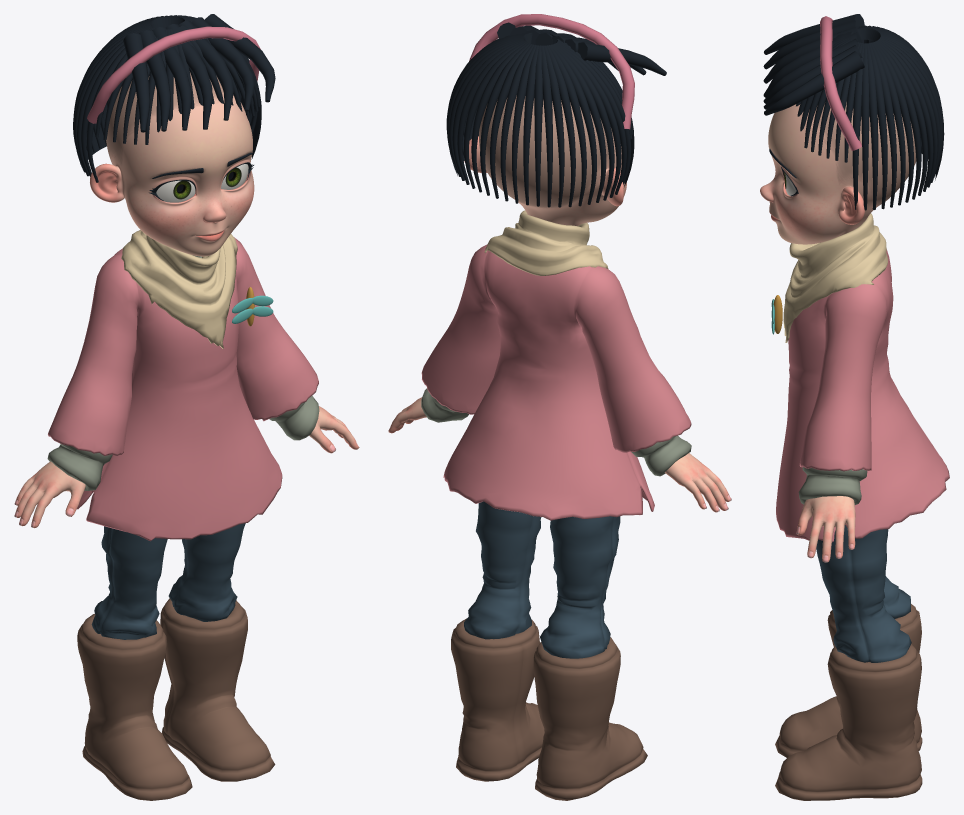
Rendered from actor-friend.glb.
3 renders of one model, left to right at view 1: azimuth 30°, elevation 25°; view 2: azimuth 150°, elevation 25°; view 3: azimuth 270°, elevation 25°, orthographic.
Visible parts, largest first — view 1: GEO-spring_jacket.001, GEO-spring_head.001, GEO_spring_boots.l.001, GEO_spring_boots.r.001, GEO_spring_pants.001, GEO_spring_scarf.001, GEO_spring_arms.001, GEO-spring_pullover.001, rose headband.001, side fringe.007, side fringe.012, side fringe.013 (+9 smaller); view 2: GEO-spring_jacket.001, GEO_spring_pants.001, GEO_spring_boots.r.001, GEO_spring_boots.l.001, GEO-spring_head.001, GEO_spring_scarf.001, rose headband.001, GEO_spring_arms.001, GEO-spring_pullover.001, bob strand.089, bob strand.088, bob strand.090 (+19 smaller); view 3: GEO-spring_jacket.001, GEO_spring_boots.l.001, GEO-spring_head.001, GEO_spring_pants.001, GEO_spring_scarf.001, GEO_spring_boots.r.001, GEO_spring_arms.001, GEO-spring_pullover.001, rose headband.001, side fringe.013, bob strand.073, bob strand.074 (+20 smaller).
Part boxes in pixels (bbox=[...]): GEO-spring_jacket.001: bbox=[48, 237, 318, 541]; GEO-spring_head.001: bbox=[90, 72, 254, 256]; GEO_spring_boots.l.001: bbox=[160, 598, 275, 781]; GEO_spring_boots.r.001: bbox=[77, 613, 192, 800]; GEO_spring_pants.001: bbox=[91, 523, 245, 639]; GEO_spring_scarf.001: bbox=[121, 230, 237, 348]; GEO_spring_arms.001: bbox=[14, 406, 359, 528]; GEO-spring_pullover.001: bbox=[47, 255, 319, 490]; rose headband.001: bbox=[87, 26, 260, 123]; side fringe.007: bbox=[123, 33, 150, 132]; side fringe.012: bbox=[191, 17, 254, 111]; side fringe.013: bbox=[205, 14, 275, 102]; GEO-spring_jacket.001: bbox=[421, 244, 691, 520]; GEO_spring_pants.001: bbox=[464, 501, 620, 658]; GEO_spring_boots.r.001: bbox=[533, 637, 647, 800]; GEO_spring_boots.l.001: bbox=[451, 618, 544, 781]; GEO-spring_head.001: bbox=[464, 95, 626, 226]; GEO_spring_scarf.001: bbox=[484, 210, 608, 275]; rose headband.001: bbox=[469, 14, 634, 129]; GEO_spring_arms.001: bbox=[388, 397, 731, 512]; GEO-spring_pullover.001: bbox=[421, 388, 691, 476]; bob strand.089: bbox=[541, 45, 552, 207]; bob strand.088: bbox=[534, 45, 543, 206]; bob strand.090: bbox=[543, 45, 564, 207]; GEO-spring_jacket.001: bbox=[776, 249, 949, 542]; GEO_spring_boots.l.001: bbox=[775, 644, 922, 800]; GEO-spring_head.001: bbox=[760, 102, 916, 244]; GEO_spring_pants.001: bbox=[816, 525, 911, 662]; GEO_spring_scarf.001: bbox=[783, 213, 887, 342]; GEO_spring_boots.r.001: bbox=[775, 604, 922, 757]; GEO_spring_arms.001: bbox=[796, 496, 855, 562]; GEO-spring_pullover.001: bbox=[798, 467, 867, 504]; rose headband.001: bbox=[820, 16, 861, 150]; side fringe.013: bbox=[764, 51, 864, 115]; bob strand.073: bbox=[861, 43, 869, 210]; bob strand.074: bbox=[866, 43, 878, 209].
Bounding box in the file's own units: 0.6981 × 1.47 × 0.3423.
19 materials, 3 textured.
